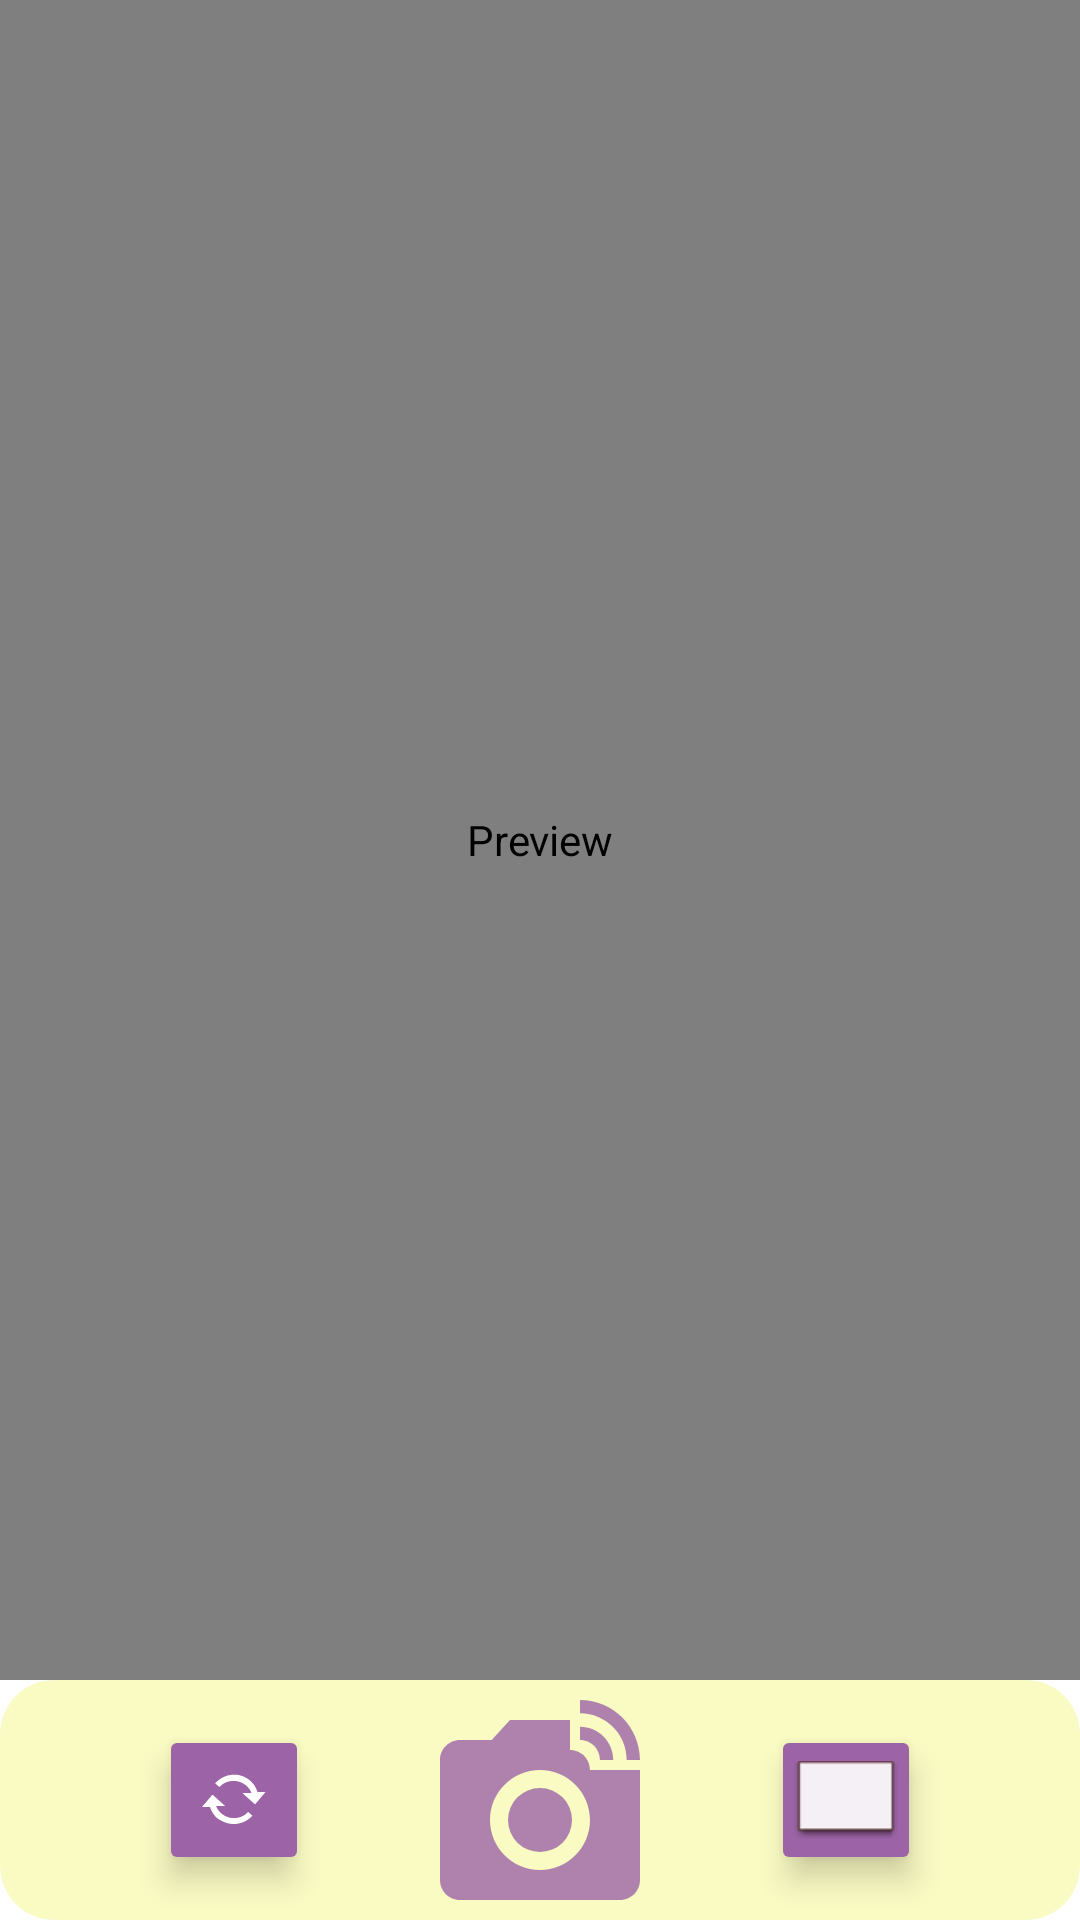

Where to tap for icons on this 1080px x 1920px app screen, as (x=x, y=y):
Capture: (x=540, y=1800)
sync: (x=234, y=1805)
